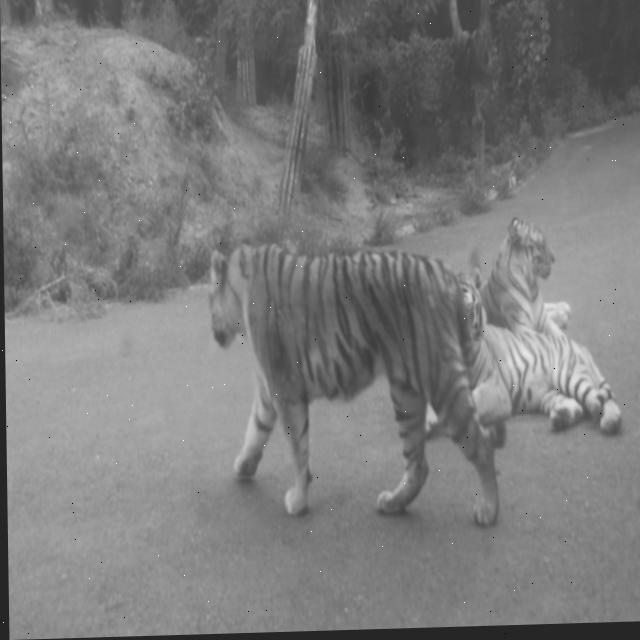Tiger: (207, 234, 508, 534)
